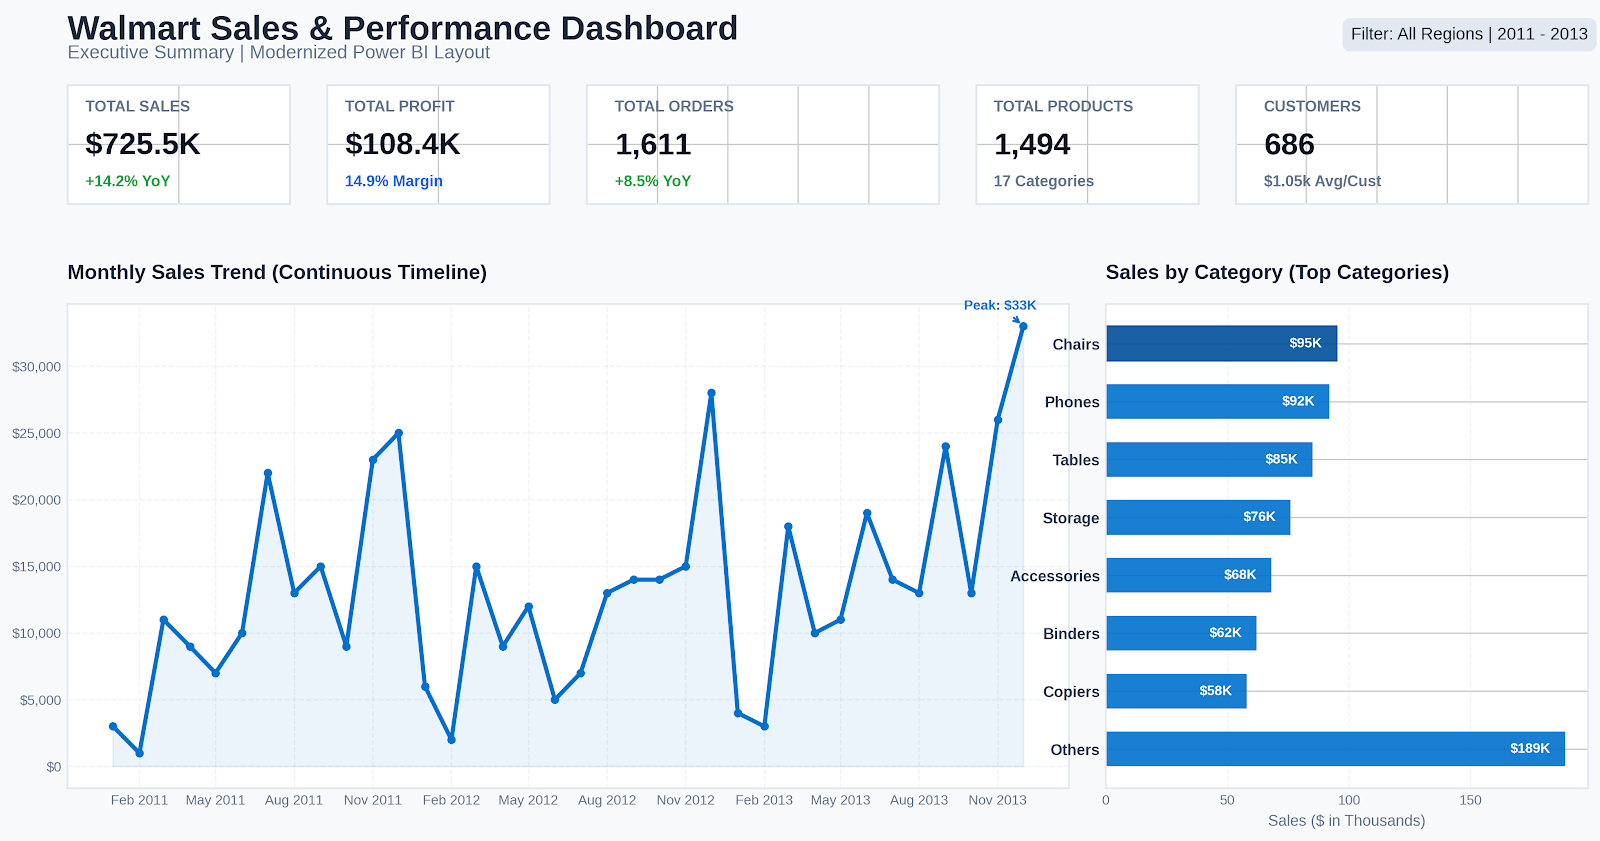

What the dashboard file says about the page in this screenshot:
{"tool":"powerbi","page":{"name":"Page 1","canvas":[1280,720],"ordinal":0},"visuals":[{"type":"cardVisual","title":"Total Profit","fields":{"Data":["Sum(walmart_cleaned.Profit)"]},"box":[208.1,92.7,178.2,126.9],"z":0},{"type":"cardVisual","title":"Total Sales","fields":{"Data":["Sum(walmart_cleaned.Sales)"]},"box":[18.5,92.7,172.5,126.9],"z":1000},{"type":"cardVisual","title":"Total Categories","fields":{"Data":["Count(walmart_cleaned.Category)"]},"box":[396.3,92.7,229.5,126.9],"z":2000},{"type":"textbox","box":[415.8,0,498.1,71.4],"z":3000},{"type":"cardVisual","title":"Total Customers","fields":{"Data":["Count(walmart_cleaned.Customer_Name)"]},"box":[1060.5,94.1,219.5,125.4],"z":4000},{"type":"cardVisual","title":"Total Products","fields":{"Data":["Count(walmart_cleaned.Product_Name)"]},"box":[640,94.1,211,126.9],"z":5000},{"type":"cardVisual","title":"Total Orders","fields":{"Data":["Count(walmart_cleaned.Order_ID)"]},"box":[868.1,92.7,175.3,126.9],"z":6000},{"type":"lineChart","title":"Monthly Sales Trend","fields":{"Y":["Sum(walmart_cleaned.Sales)"],"Category":["walmart_cleaned.Month_Year"]},"box":[12.3,263.5,808.2,426.8],"z":7000},{"type":"clusteredBarChart","title":"Category-wise Sales","fields":{"Y":["Sum(walmart_cleaned.Sales)"],"Category":["walmart_cleaned.Category"]},"box":[830.2,441.9,429.5,248.4],"z":8000},{"type":"slicer","fields":{"Values":["walmart_cleaned.Category"]},"box":[830.2,262.1,148.2,167.4],"z":9000},{"type":"slicer","fields":{"Values":["walmart_cleaned.State"]},"box":[983.9,262.1,155.1,167.4],"z":10000},{"type":"slicer","fields":{"Values":["walmart_cleaned.Year"]},"box":[1143.1,262.1,137.2,167.4],"z":10001},{"type":"actionButton","box":[0,0,100,40],"z":10002}]}

Visuals, with their boxes on the page's 1280x720 design canvas (x1, y1, x2, y2). These are canvas units, not pixel positions in the 1600x841 screenshot, which may show the page scaled, cropped or inside an application window:
"Total Profit" cardVisual: left=208, top=93, right=386, bottom=220
"Total Sales" cardVisual: left=18, top=93, right=191, bottom=220
"Total Categories" cardVisual: left=396, top=93, right=626, bottom=220
textbox: left=416, top=0, right=914, bottom=71
"Total Customers" cardVisual: left=1060, top=94, right=1280, bottom=220
"Total Products" cardVisual: left=640, top=94, right=851, bottom=221
"Total Orders" cardVisual: left=868, top=93, right=1043, bottom=220
"Monthly Sales Trend" lineChart: left=12, top=264, right=820, bottom=690
"Category-wise Sales" clusteredBarChart: left=830, top=442, right=1260, bottom=690
slicer - walmart_cleaned.Category: left=830, top=262, right=978, bottom=430
slicer - walmart_cleaned.State: left=984, top=262, right=1139, bottom=430
slicer - walmart_cleaned.Year: left=1143, top=262, right=1280, bottom=430
actionButton: left=0, top=0, right=100, bottom=40
